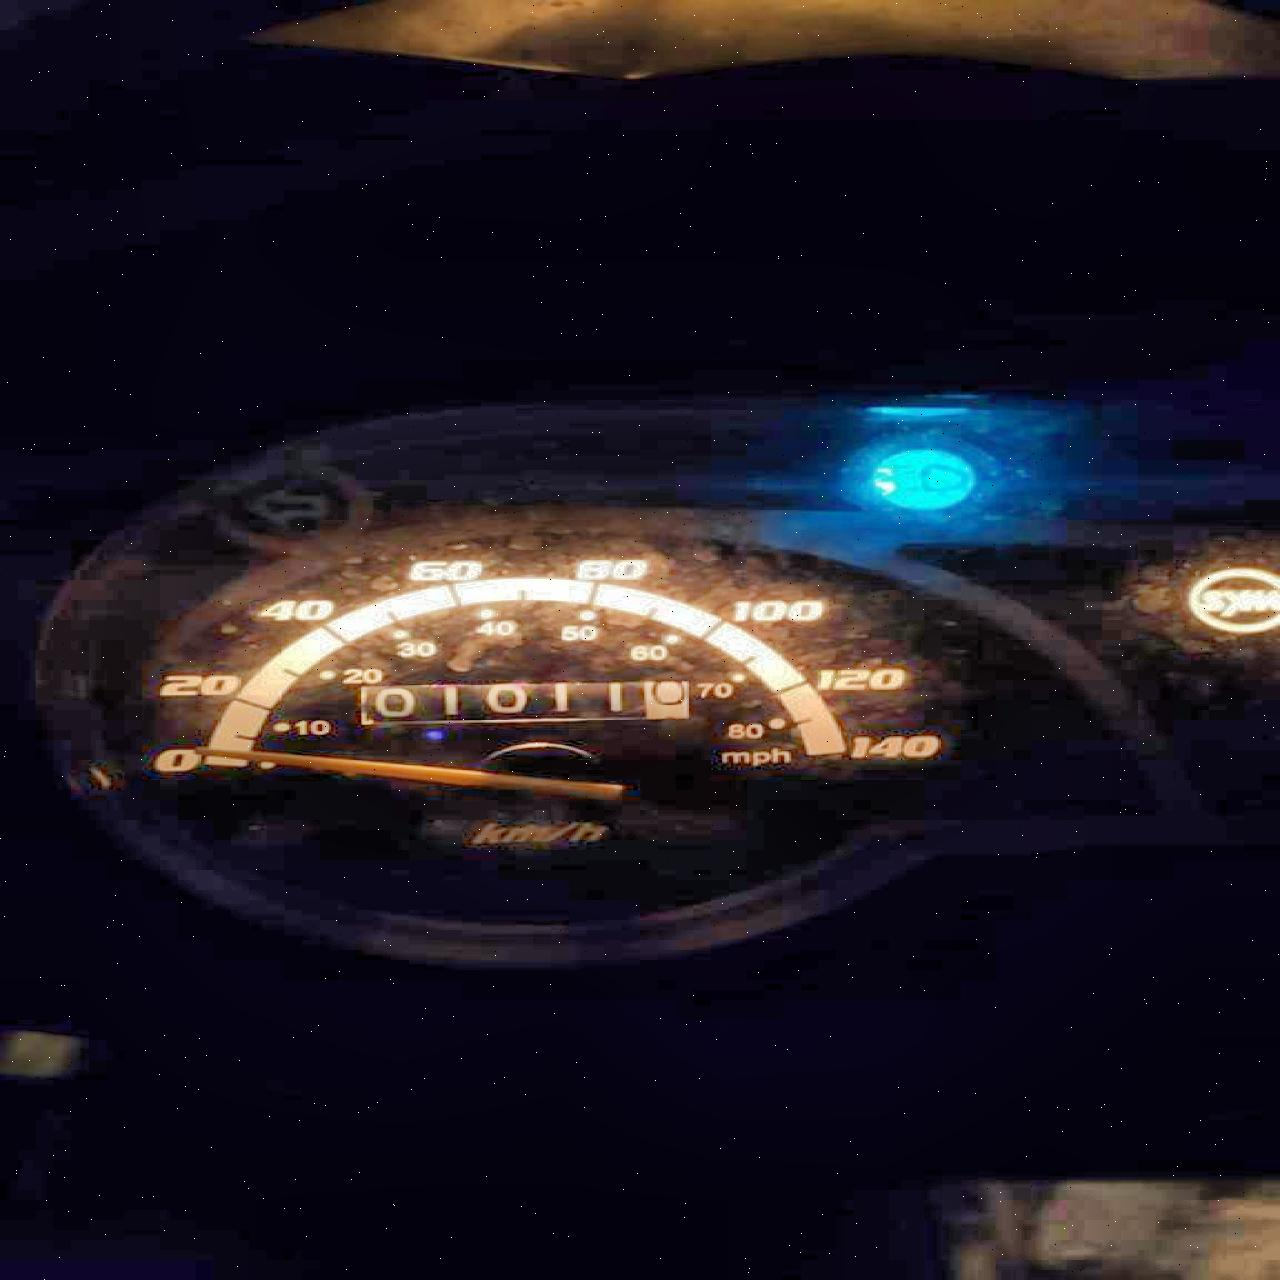0: (372, 685, 416, 717), (481, 682, 526, 713), (647, 679, 687, 704)
1: (429, 683, 467, 716), (543, 680, 576, 713), (600, 681, 625, 712)
odometer: (340, 675, 696, 727)
